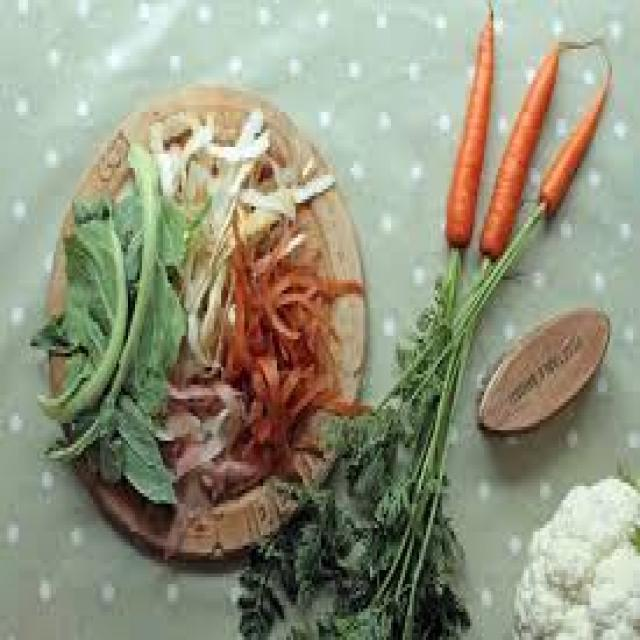Wet: (237, 3, 631, 640), (29, 74, 382, 571)
